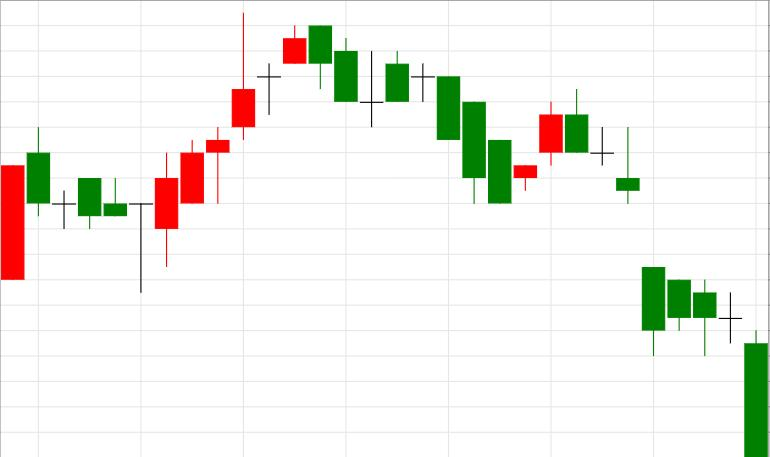bearish_engulfing_fall: (128, 12, 332, 293)
shooting_star_fall: (129, 13, 255, 293)
